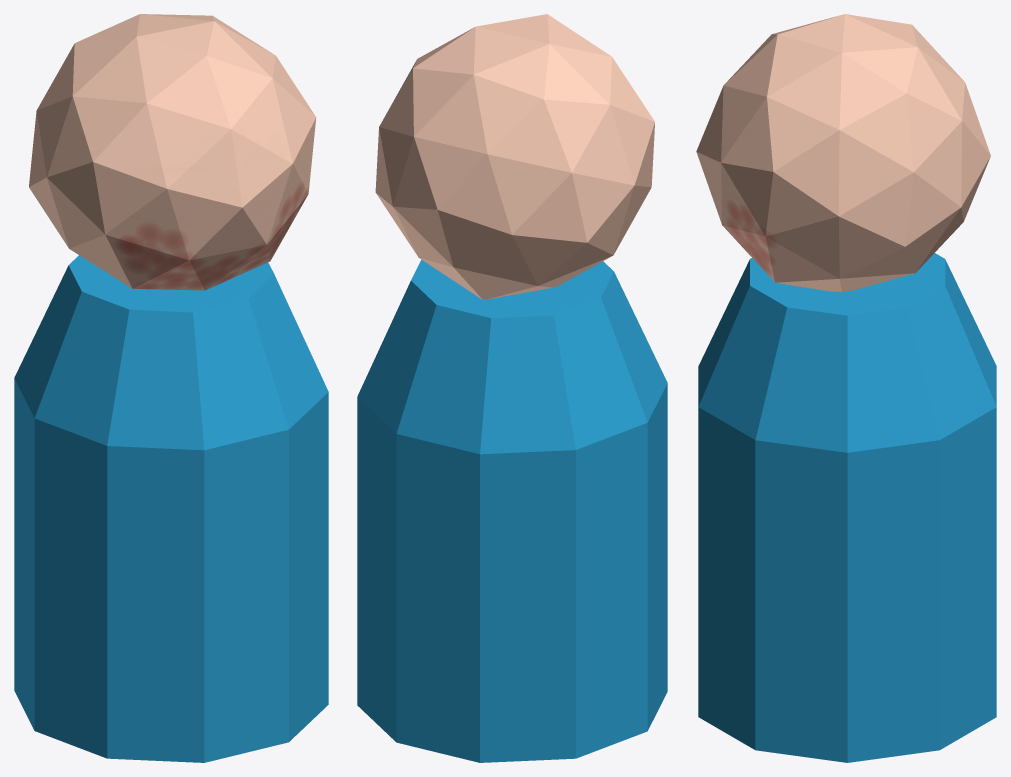
File: RashCharacter.fbx
3 views of the same model, side by side, from view 1: azimuth 30°, elevation 25°; view 2: azimuth 150°, elevation 25°; view 3: azimuth 270°, elevation 25° (orthographic).
Visible parts, largest first — view 1: polySurface1; view 2: polySurface1; view 3: polySurface1.
Boxes of the visible parts, x1,y1,x2,y2 form: polySurface1: [14, 14, 328, 762]; polySurface1: [357, 14, 667, 762]; polySurface1: [696, 14, 996, 762].
Size of the model in its own units: 1.97 by 4.61 by 1.89.
Materials: 2 (2 with a texture image).
